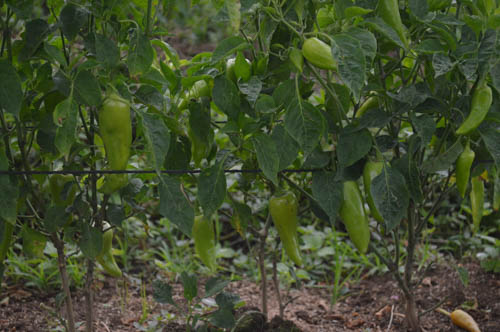ChiliPepper: (337, 177, 370, 252), (270, 195, 304, 264), (104, 100, 135, 172), (460, 83, 494, 141), (364, 164, 386, 224), (194, 216, 217, 270), (303, 38, 338, 72), (451, 147, 471, 194), (474, 176, 483, 229)
